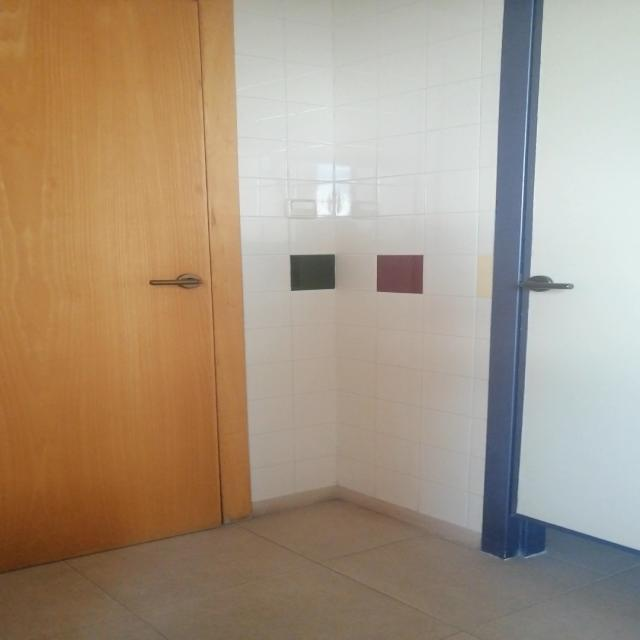door_handle: (520, 279, 576, 291), (145, 278, 205, 286)
